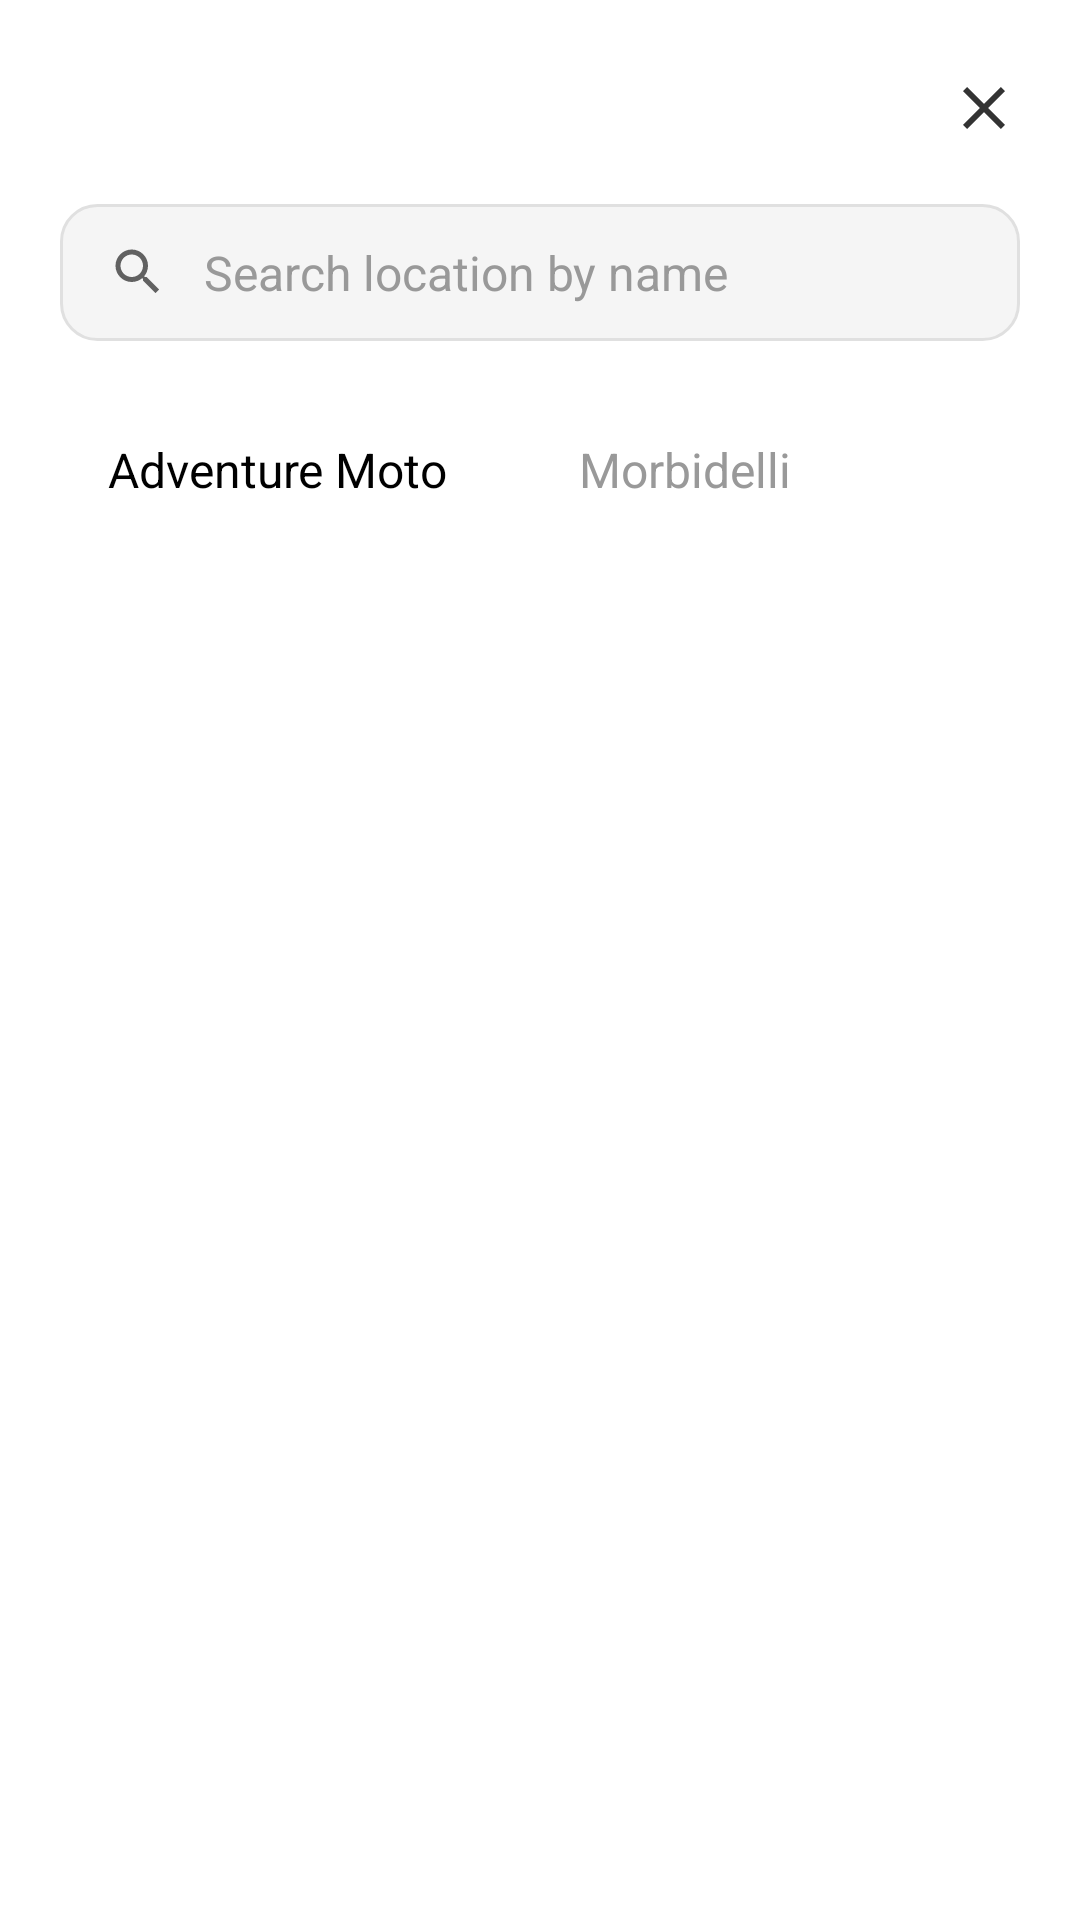

Icons on this 1080w x 1920h Android screen, each with its box as box=[x1, y1, x2, y2]:
Close: box=[963, 87, 1005, 129]
